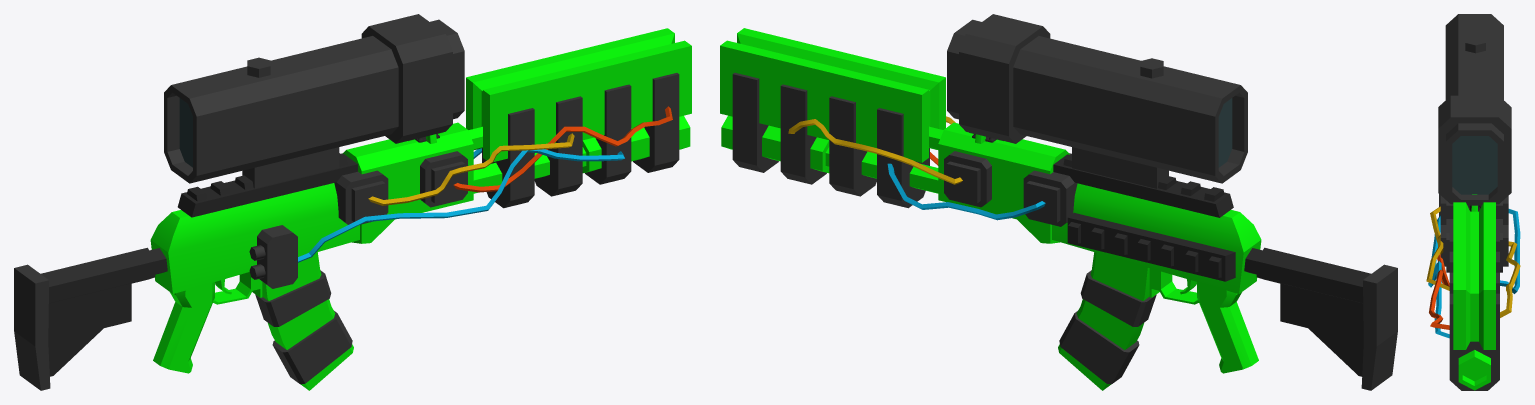
File: mitra.fbx
The picture shows the model from 3 angles, left to right: view 1: azimuth 30°, elevation 25°; view 2: azimuth 150°, elevation 25°; view 3: azimuth 270°, elevation 25°; orthographic projection. The views are drawn at different scales.
Parts seen in each view (by area): view 1: gun_acc_sign_028, AK47_StreetBuild_up, Rectangle405, gun_acc_stock_010, AK_47up, Freehand008, Box11159, Box11152, Box11153, Box11155, Box11154, Box11149 (+2 smaller); view 2: gun_acc_sign_028, AK47_StreetBuild_up, Rectangle405, gun_acc_stock_010, AK_47up, Box11150, Box11159, Box11152, Box11155, Box11153, Box11154, Freehand008 (+2 smaller); view 3: gun_acc_sign_028, Rectangle405, Freehand008, Box11152, AK_47up, Box11157, Box11156, Box11155, Box11153, Box11154.
Boxes of the visible parts, x1,y1,x2,y2 form: gun_acc_sign_028: [164, 14, 464, 188]; AK47_StreetBuild_up: [150, 122, 473, 390]; Rectangle405: [466, 28, 691, 161]; gun_acc_stock_010: [14, 247, 167, 390]; AK_47up: [153, 115, 690, 373]; Freehand008: [298, 106, 672, 262]; Box11159: [177, 153, 357, 217]; Box11152: [633, 73, 679, 172]; Box11153: [585, 84, 631, 184]; Box11155: [534, 96, 582, 196]; Box11154: [482, 108, 534, 208]; Box11149: [249, 225, 297, 288]; gun_acc_sign_028: [947, 14, 1247, 188]; AK47_StreetBuild_up: [938, 122, 1261, 390]; Rectangle405: [720, 28, 945, 162]; gun_acc_stock_010: [1244, 247, 1397, 390]; AK_47up: [721, 115, 1258, 373]; Box11150: [1067, 212, 1235, 281]; Box11159: [1053, 153, 1233, 217]; Box11152: [732, 72, 778, 172]; Box11155: [829, 96, 876, 196]; Box11153: [780, 84, 826, 184]; Box11154: [877, 108, 929, 208]; Freehand008: [788, 116, 1045, 220]; gun_acc_sign_028: [1438, 14, 1511, 205]; Rectangle405: [1453, 202, 1495, 349]; Freehand008: [1426, 206, 1520, 338]; Box11152: [1449, 293, 1499, 390]; AK_47up: [1458, 350, 1490, 390]; Box11157: [1440, 219, 1508, 272]; Box11156: [1440, 195, 1508, 224]; Box11155: [1449, 251, 1499, 272]; Box11153: [1449, 272, 1499, 293]; Box11154: [1449, 231, 1499, 251].
Bounding box in the file's own units: 107 × 52.01 × 15.
